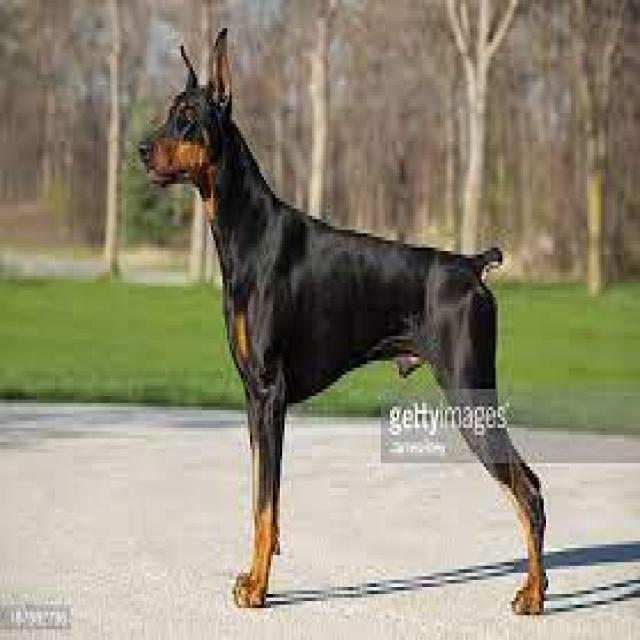Dog: (144, 46, 554, 619)
